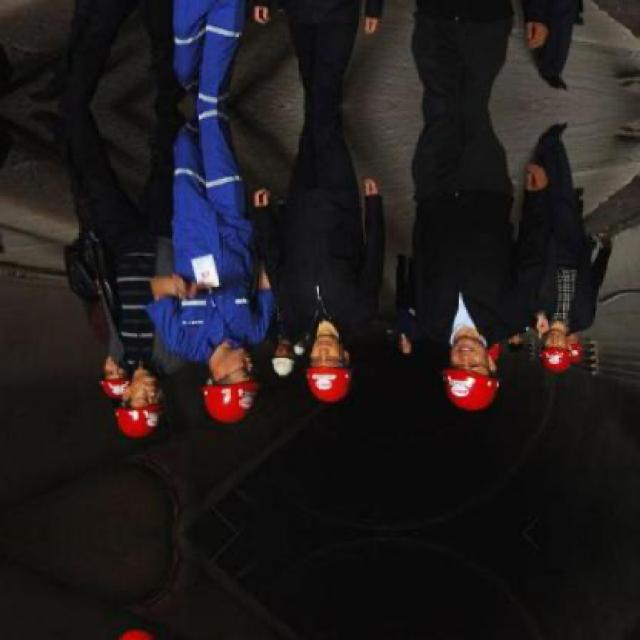con casco: (98, 362, 164, 458), (444, 336, 514, 418), (198, 339, 261, 423), (307, 320, 349, 414), (527, 320, 597, 375)
